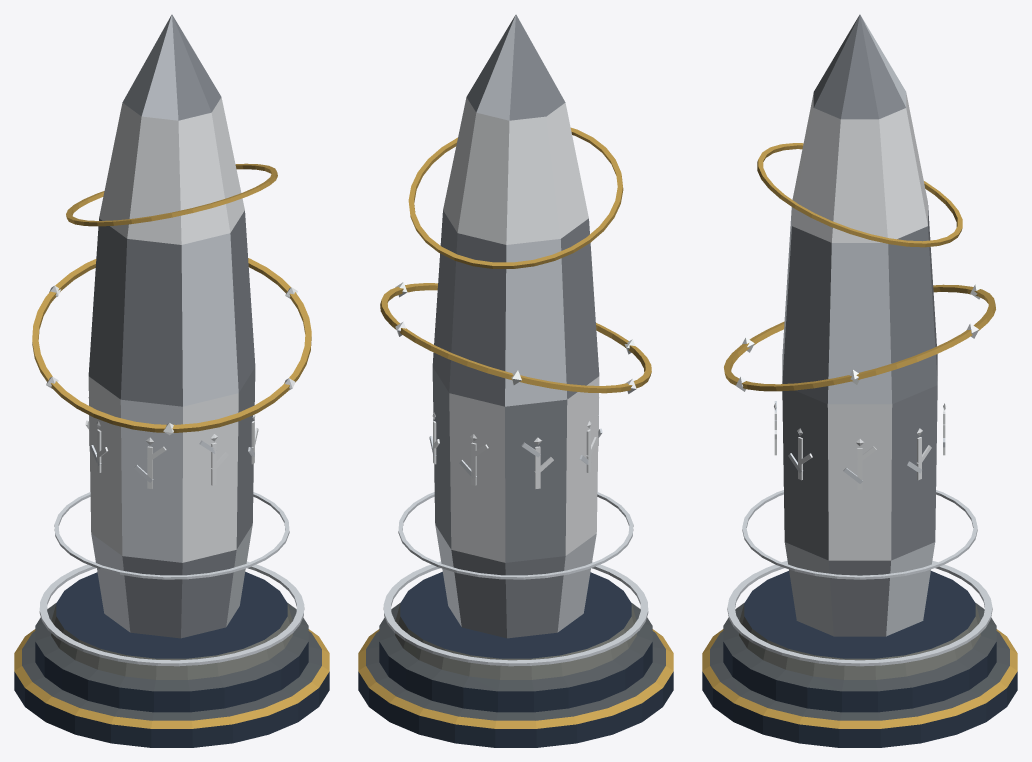
Rendered from RiftMonolith.obj.
3 renders of one model, left to right at view 1: azimuth 30°, elevation 25°; view 2: azimuth 150°, elevation 25°; view 3: azimuth 270°, elevation 25°, orthographic.
Bounding box in the file's own units: 6 × 14 × 6.
